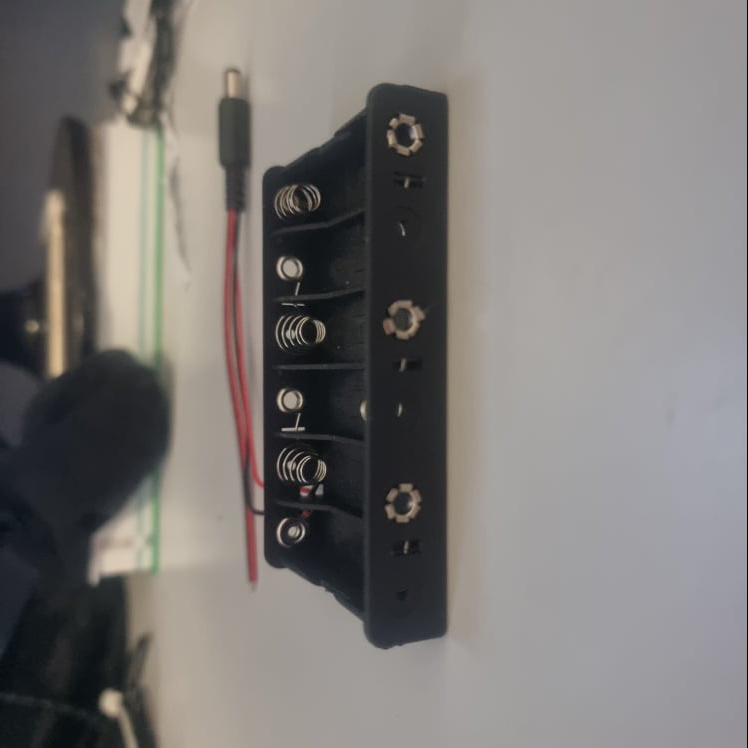BATTERY BOX: (264, 81, 450, 649)
